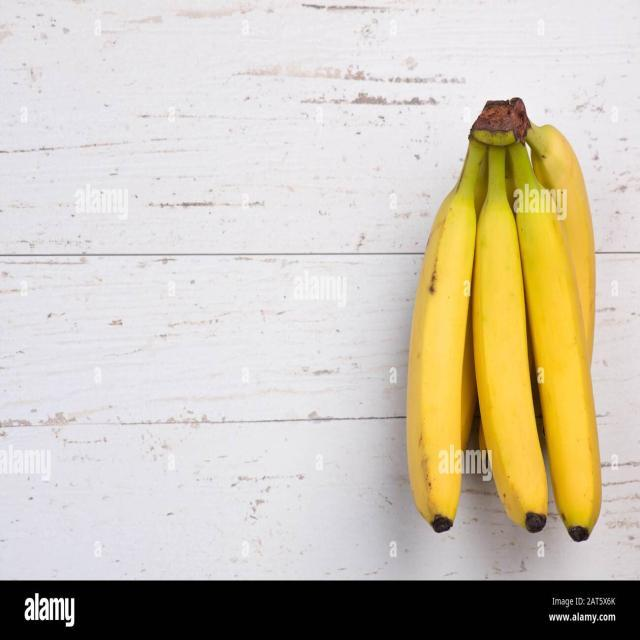banana: (403, 94, 609, 552)
